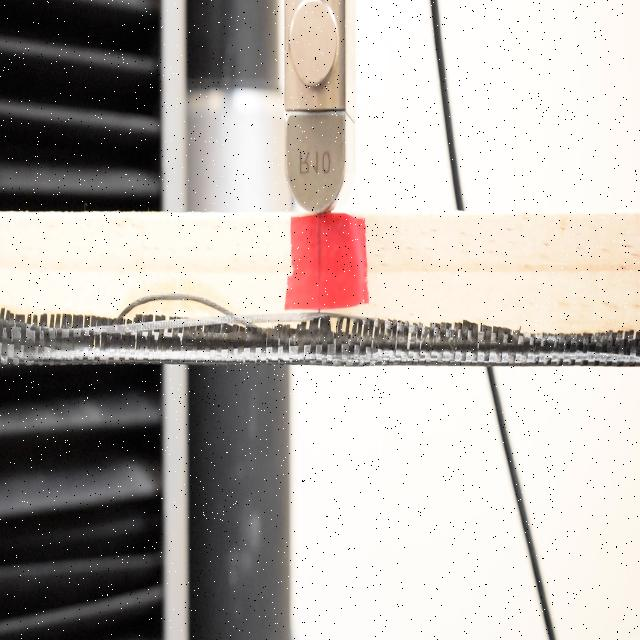wood: (1, 211, 640, 366)
